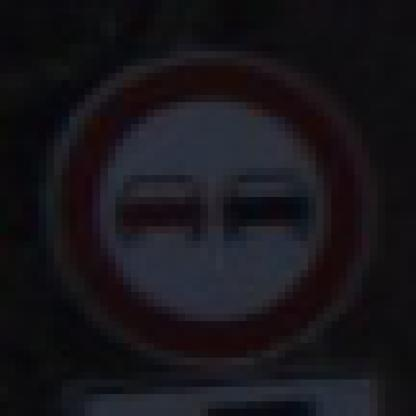No Overtaking: (40, 38, 379, 381)
